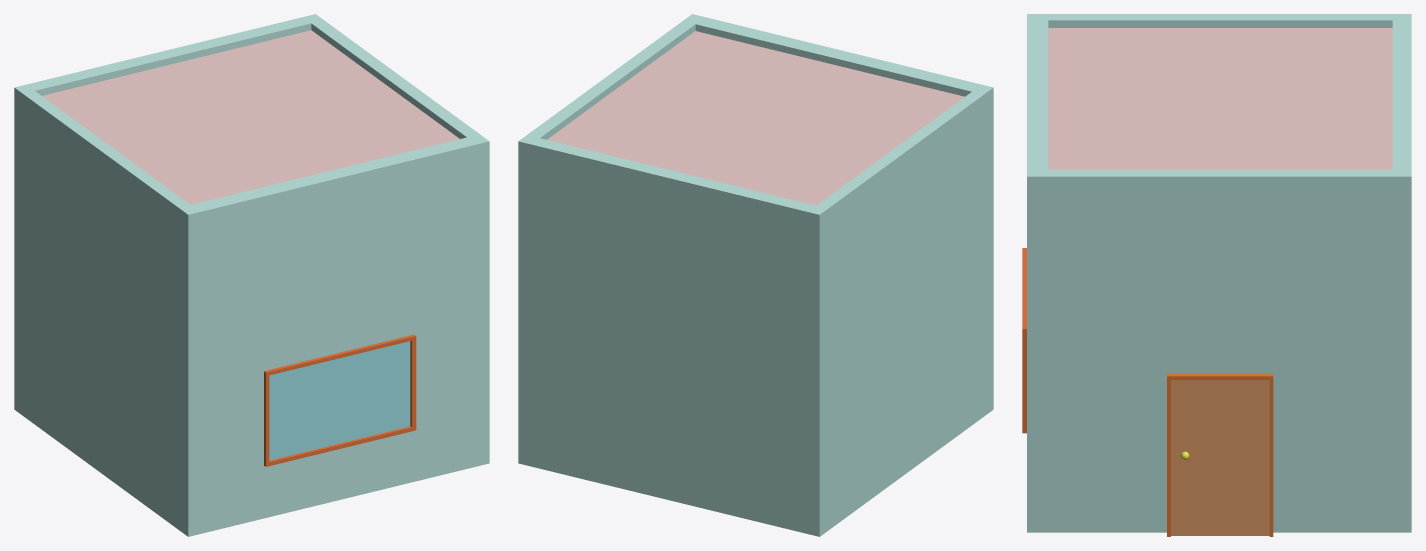
Rendered from SmallHouse.fbx.
3 views of the same model, side by side, from view 1: azimuth 30°, elevation 25°; view 2: azimuth 150°, elevation 25°; view 3: azimuth 270°, elevation 25° (orthographic). The views are drawn at different scales.
Parts seen in each view (by area): view 1: Main, Roof, Window; view 2: Main, Roof; view 3: Main, Roof, Door, Window.
Part boxes in pixels (x1,y1,x2,y2): Main: [14, 14, 489, 536]; Roof: [42, 30, 459, 204]; Window: [264, 334, 416, 466]; Main: [518, 14, 993, 536]; Roof: [547, 31, 964, 205]; Main: [1027, 14, 1411, 532]; Roof: [1048, 28, 1392, 169]; Door: [1167, 373, 1273, 536]; Window: [1022, 248, 1026, 433].
Size of the model in its own units: 205 by 205 by 202.
